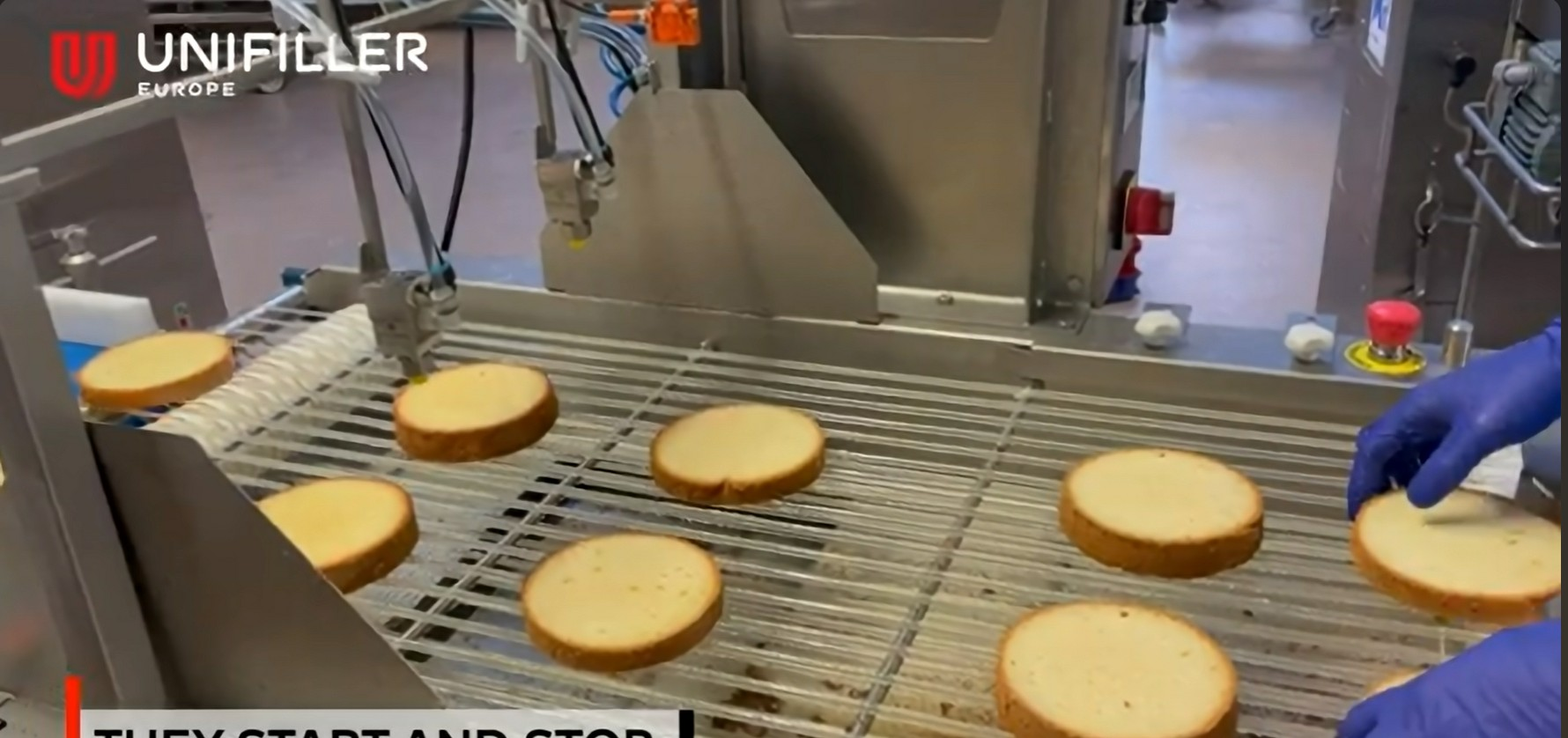Sponge Cake: (996, 599, 1242, 738), (1352, 484, 1565, 621), (520, 531, 726, 672), (1062, 449, 1267, 578), (255, 477, 417, 589), (650, 405, 827, 505), (393, 362, 555, 462), (77, 333, 232, 408)
